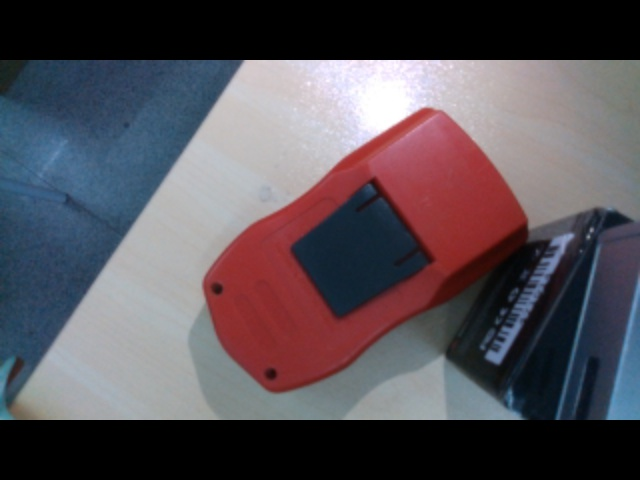Multimeter: (201, 111, 531, 395)
Screw holes: (263, 366, 279, 380), (210, 281, 223, 296)
